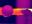Hotspot: (13, 8, 26, 11), (29, 9, 31, 12)
